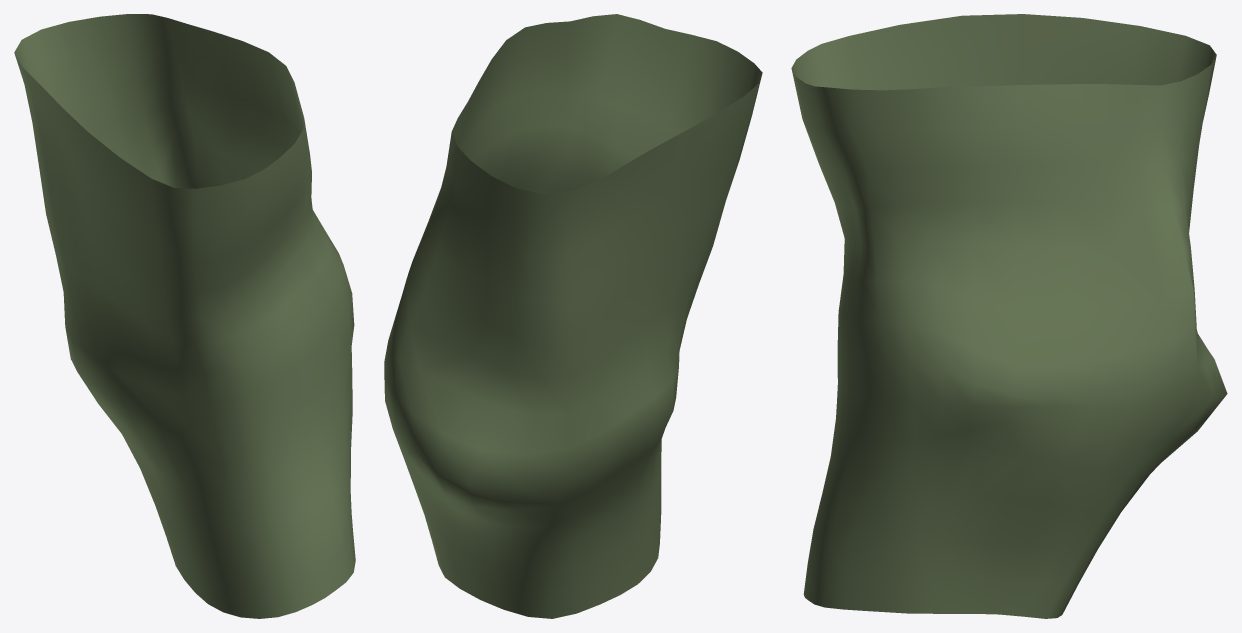
File: Pantalon_Jambe_Droite.fbx
The picture shows the model from 3 angles, left to right: view 1: azimuth 30°, elevation 25°; view 2: azimuth 150°, elevation 25°; view 3: azimuth 270°, elevation 25°; orthographic projection. The views are drawn at different scales.
Visible parts, largest first — view 1: polySurface89; view 2: polySurface89; view 3: polySurface89.
Boxes of the visible parts, x1,y1,x2,y2 form: polySurface89: (14, 14, 355, 618); polySurface89: (384, 14, 762, 618); polySurface89: (791, 14, 1227, 618).
Size of the model in its own units: 24.95 by 46.87 by 33.6.
